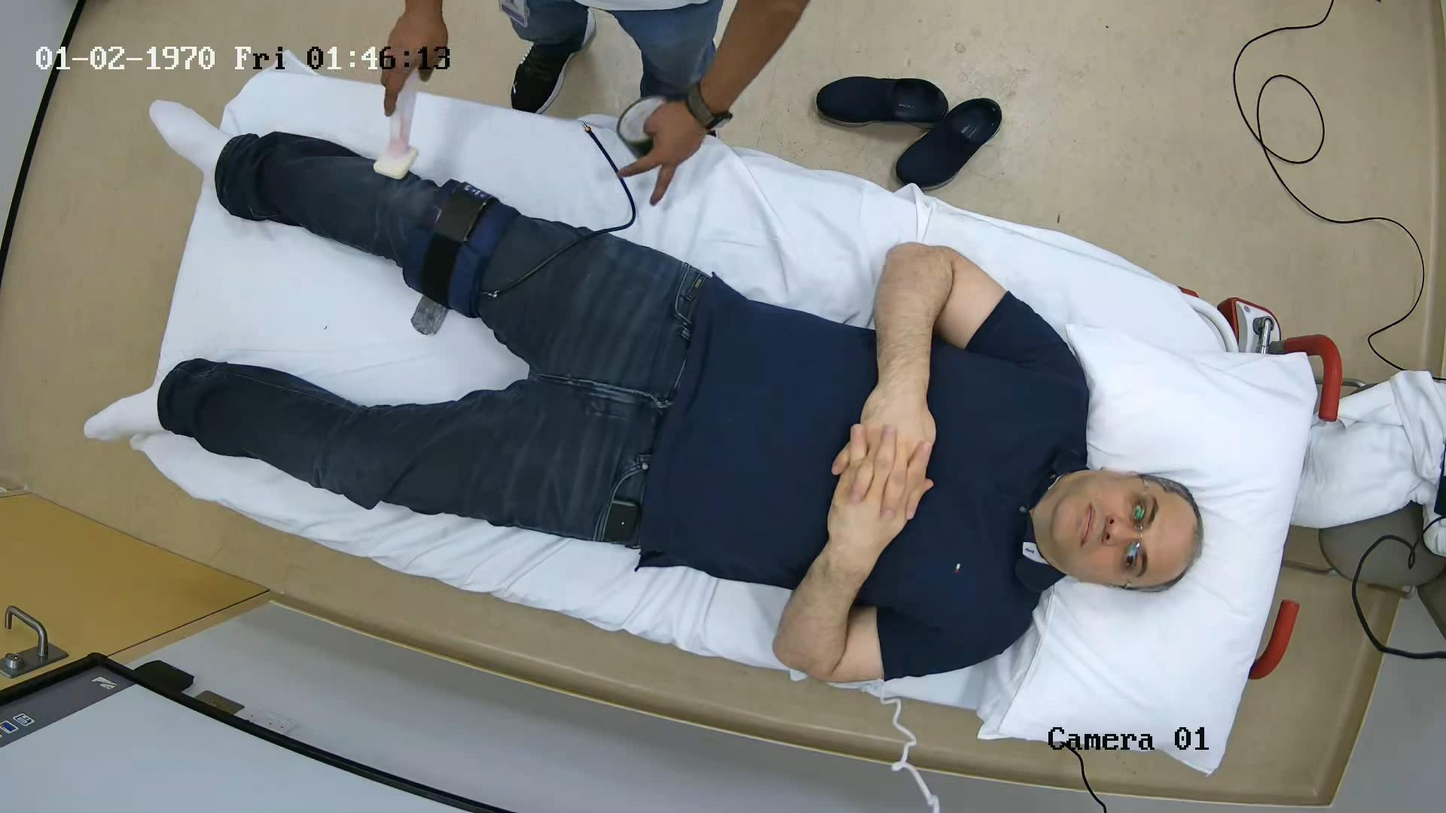bed: (134, 61, 1341, 772)
patient: (157, 132, 1204, 682)
prepstick: (374, 72, 422, 177)
tourniquet: (401, 180, 520, 317)
